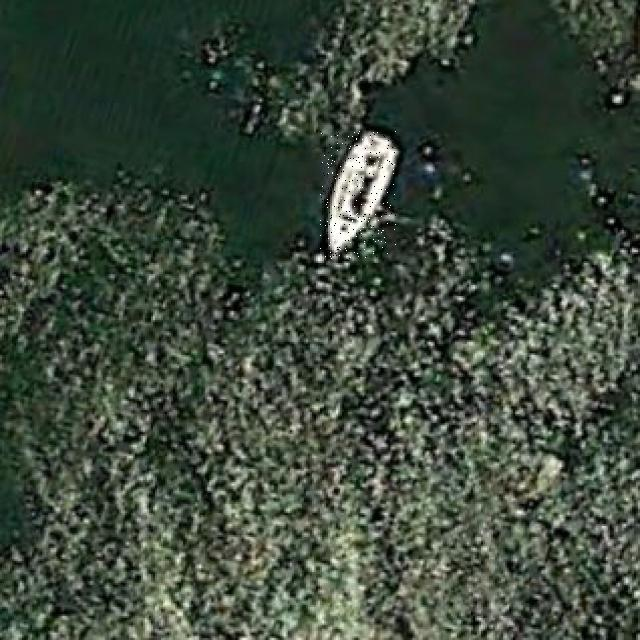boat: (320, 131, 396, 259)
